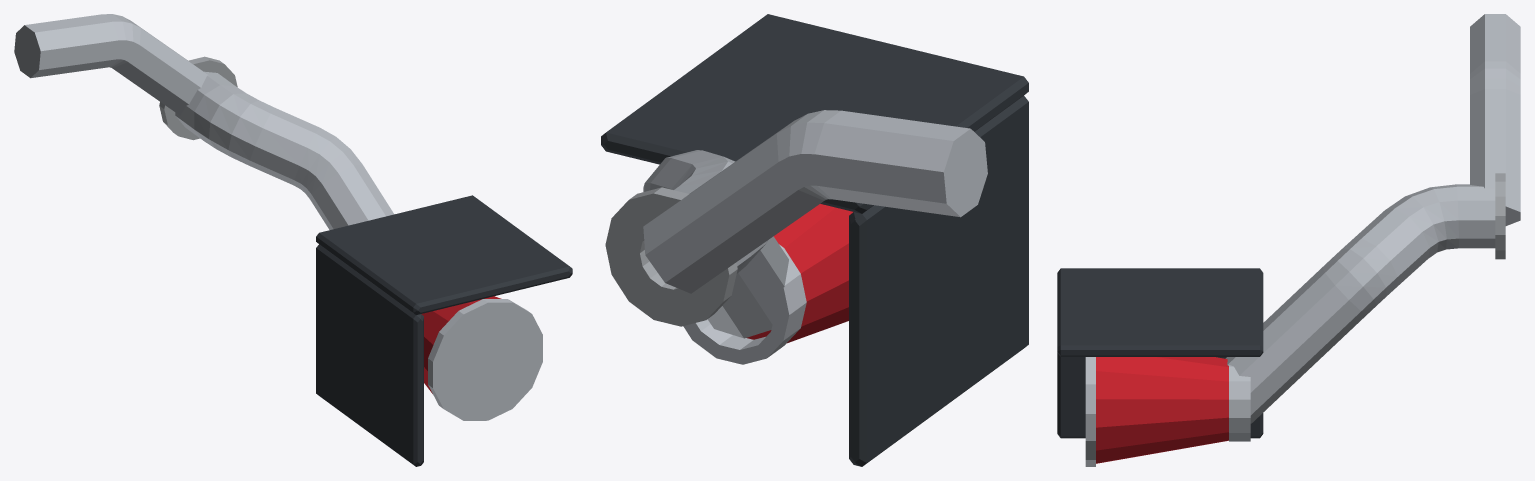
The model's file is apex_v8.glb.
The picture shows the model from 3 angles, left to right: view 1: azimuth 30°, elevation 25°; view 2: azimuth 150°, elevation 25°; view 3: azimuth 270°, elevation 25°; orthographic projection. The views are drawn at different scales.
Parts seen in each view (by area): view 1: model; view 2: model; view 3: model.
Boxes of the visible parts, x1=… form: model: x1=14, y1=14, x2=572, y2=466; model: x1=601, y1=14, x2=1028, y2=466; model: x1=1057, y1=14, x2=1520, y2=466.
Bounding box in the file's own units: 0.463 × 0.4294 × 0.5396.
Materials: 2 (1 with a texture image).
